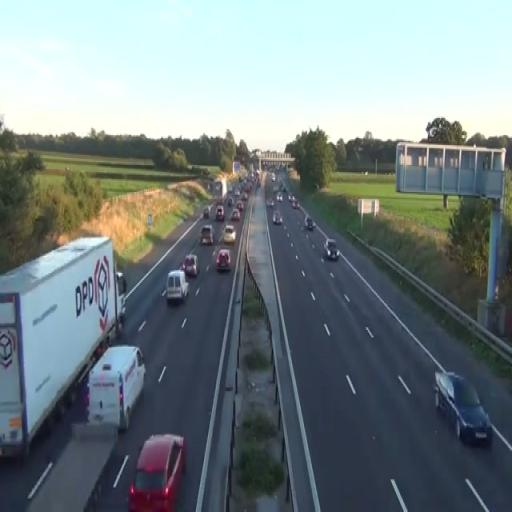Car: (129, 433, 187, 511), (434, 370, 492, 448), (166, 270, 189, 304), (215, 248, 231, 272), (324, 238, 340, 261), (183, 254, 199, 276), (200, 224, 214, 245), (223, 223, 236, 245), (230, 208, 240, 222), (216, 206, 225, 220)
Truck: (0, 234, 127, 460), (88, 344, 146, 432)
